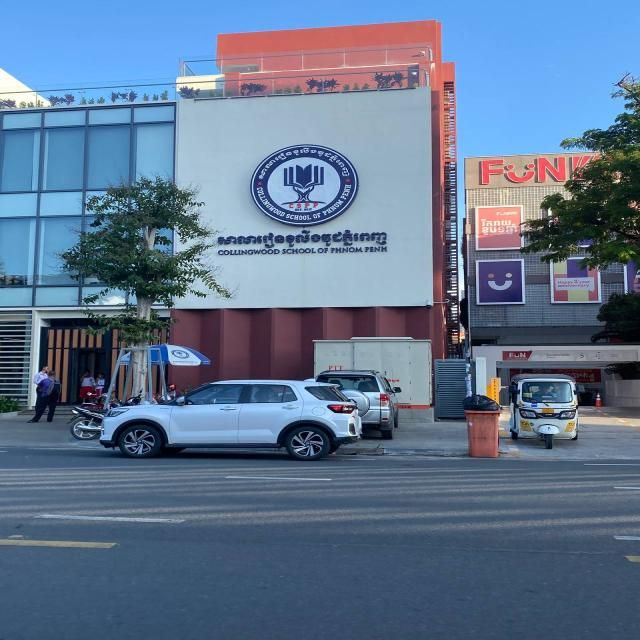Yolov11_80vkh: (211, 222, 391, 252), (253, 145, 355, 183), (479, 222, 519, 236), (479, 218, 513, 228)
